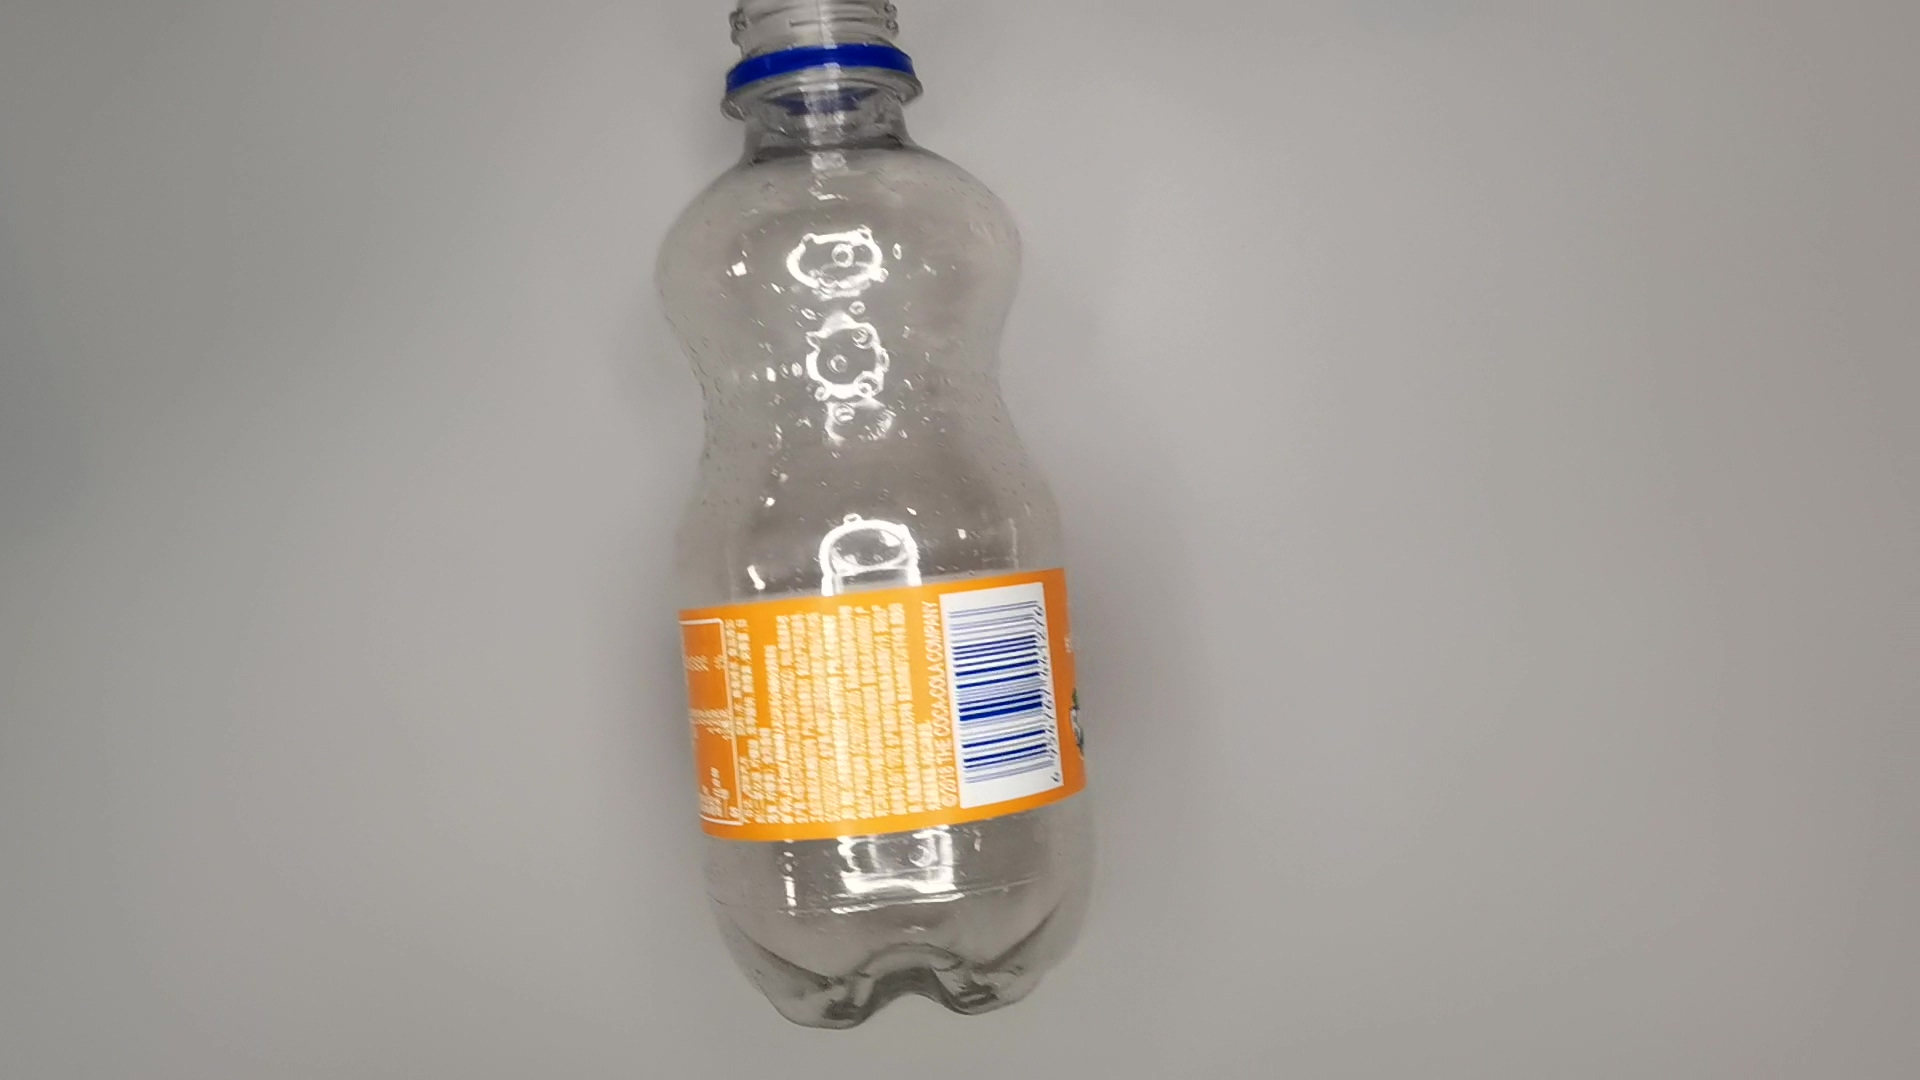bottle: (658, 1, 1105, 1033)
